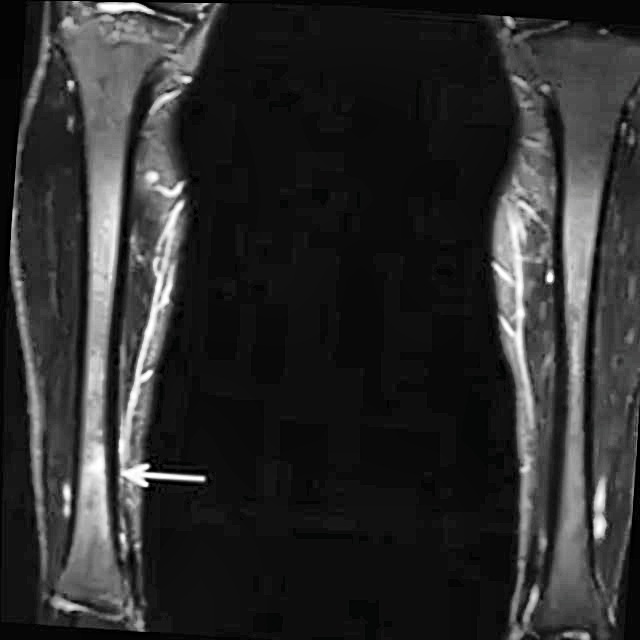Greenstick: (79, 436, 114, 498)
